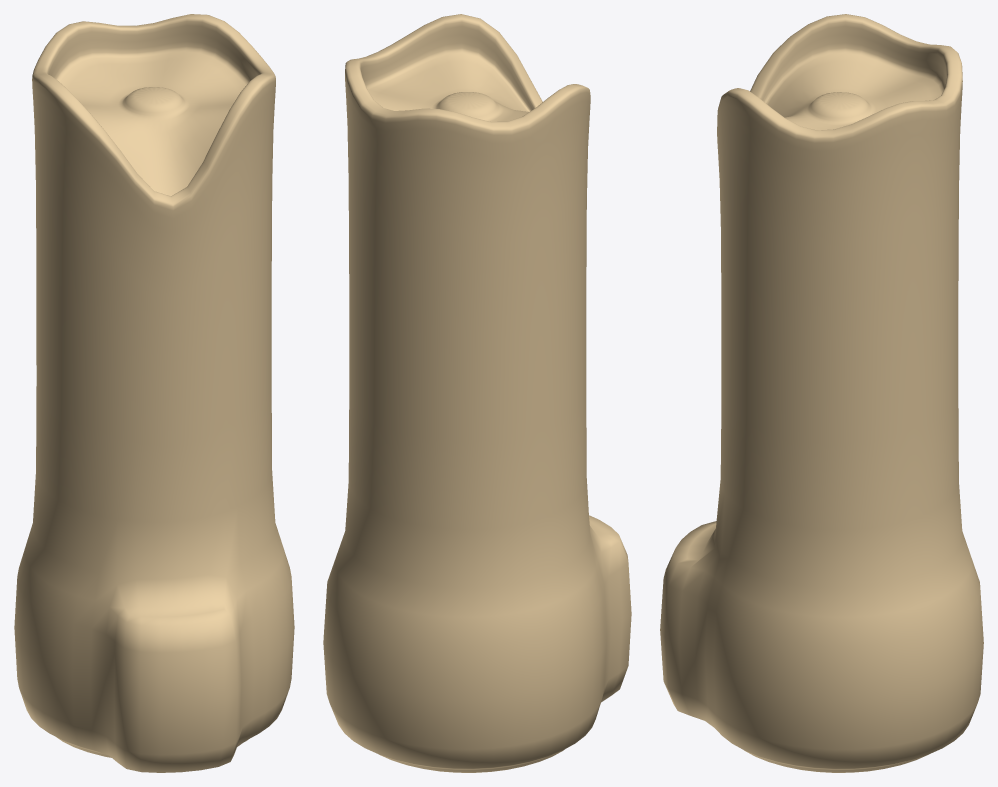
File: candle1.fbx
The picture shows the model from 3 angles, left to right: view 1: azimuth 30°, elevation 25°; view 2: azimuth 150°, elevation 25°; view 3: azimuth 270°, elevation 25°; orthographic projection.
Parts seen in each view (by area): view 1: Candle4; view 2: Candle4; view 3: Candle4.
Boxes of the visible parts, bbox=[...] form: Candle4: bbox=[14, 14, 294, 772]; Candle4: bbox=[323, 14, 631, 772]; Candle4: bbox=[660, 14, 983, 772].
Size of the model in its own units: 2.93 by 7.62 by 3.36.
